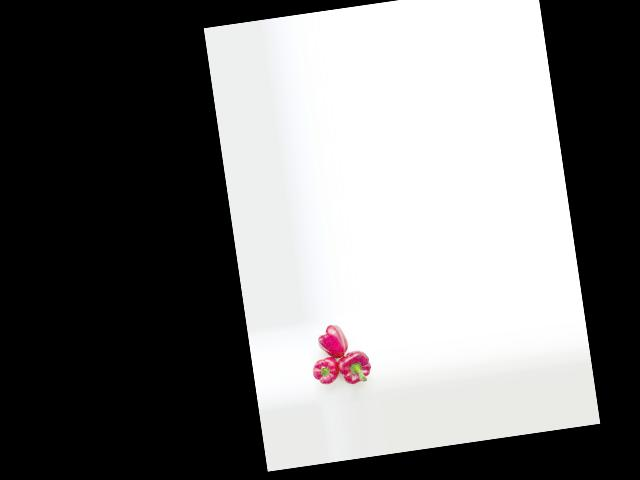bell_pepper: (309, 318, 352, 362)
